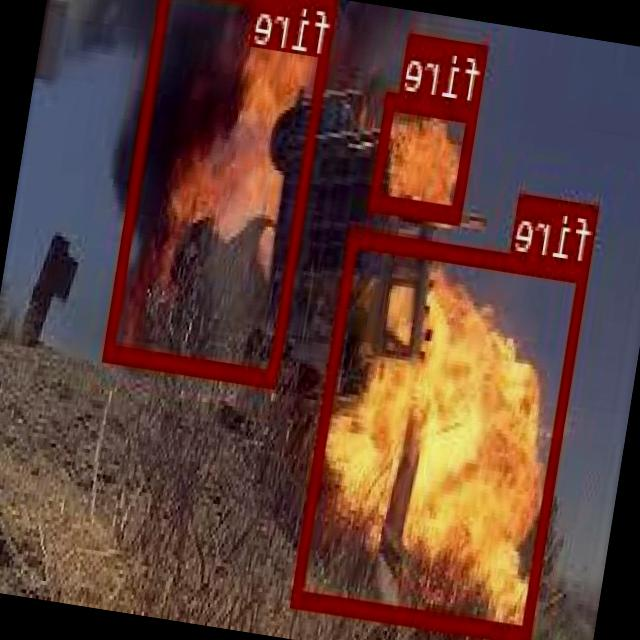fire: (292, 228, 591, 640), (105, 0, 339, 386), (372, 90, 480, 220)
